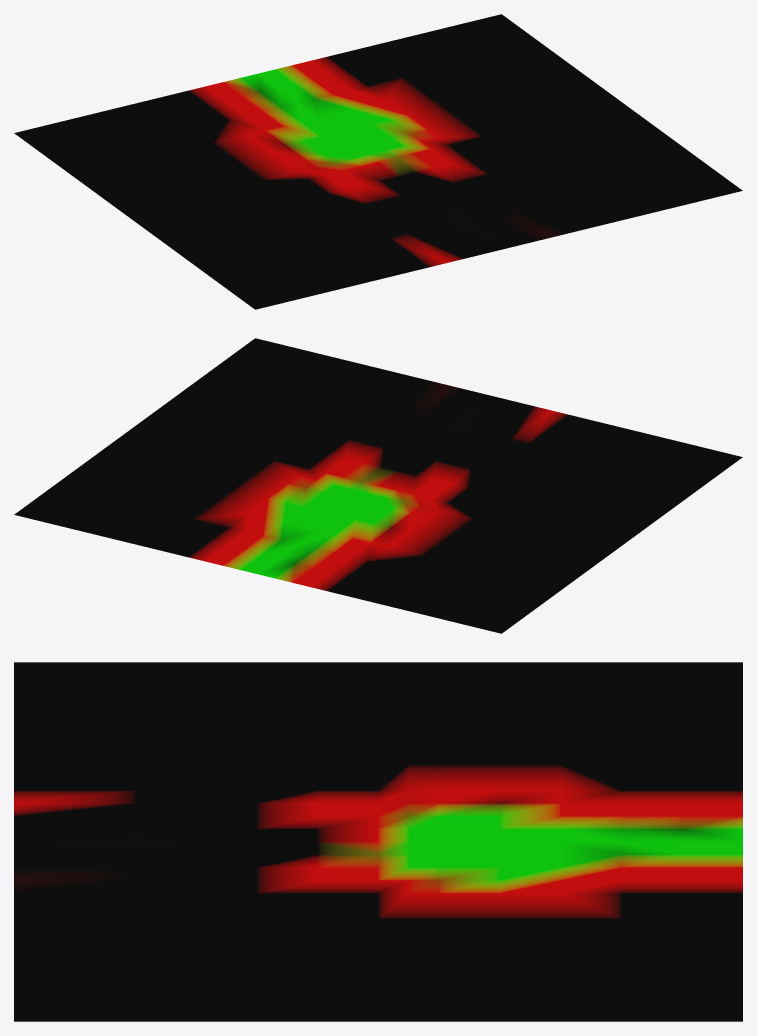
The model's file is Section_MiniBoss_Forest_Terrain.fbx.
3 views of the same model, one above another, from view 1: azimuth 30°, elevation 25°; view 2: azimuth 150°, elevation 25°; view 3: azimuth 270°, elevation 25° (orthographic). The views are drawn at different scales.
Parts seen in each view (by area): view 1: Section_MiniBoss_Forest_Terrain; view 2: Section_MiniBoss_Forest_Terrain; view 3: Section_MiniBoss_Forest_Terrain.
Part boxes in pixels (x1,y1,x2,y2): Section_MiniBoss_Forest_Terrain: (14, 14, 742, 309); Section_MiniBoss_Forest_Terrain: (14, 338, 742, 633); Section_MiniBoss_Forest_Terrain: (14, 662, 742, 1021).
Size of the model in its own units: 7000 by 0.01 by 6000.
